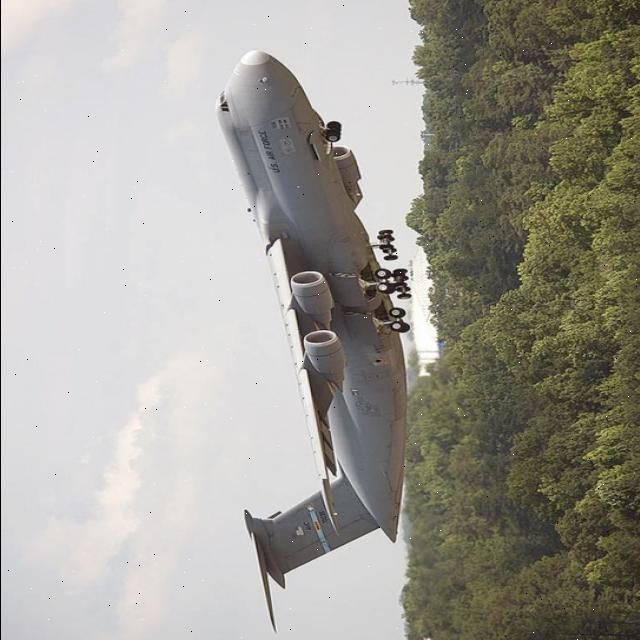C5: (188, 40, 442, 634)
